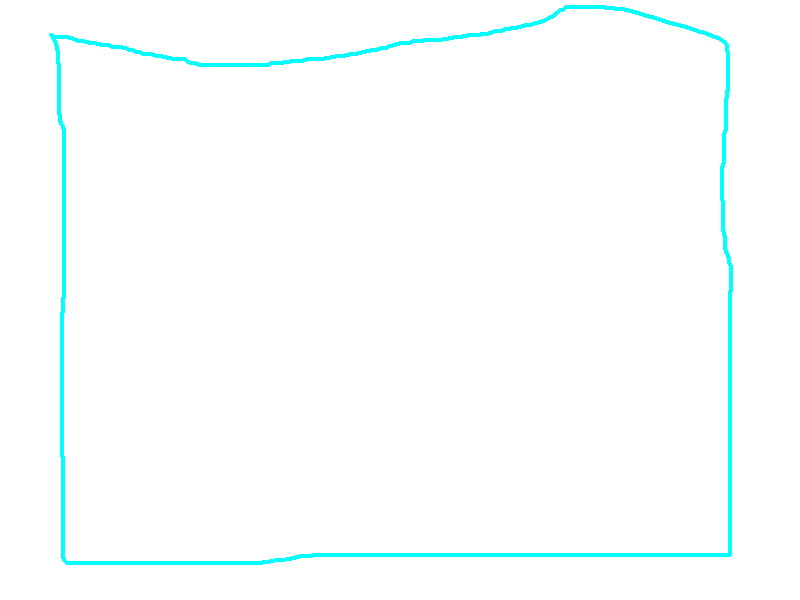rect: (45, 3, 741, 574)
